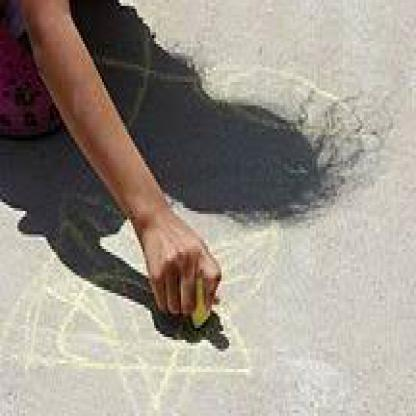Sedimentary_Chalk: (185, 276, 212, 326)
